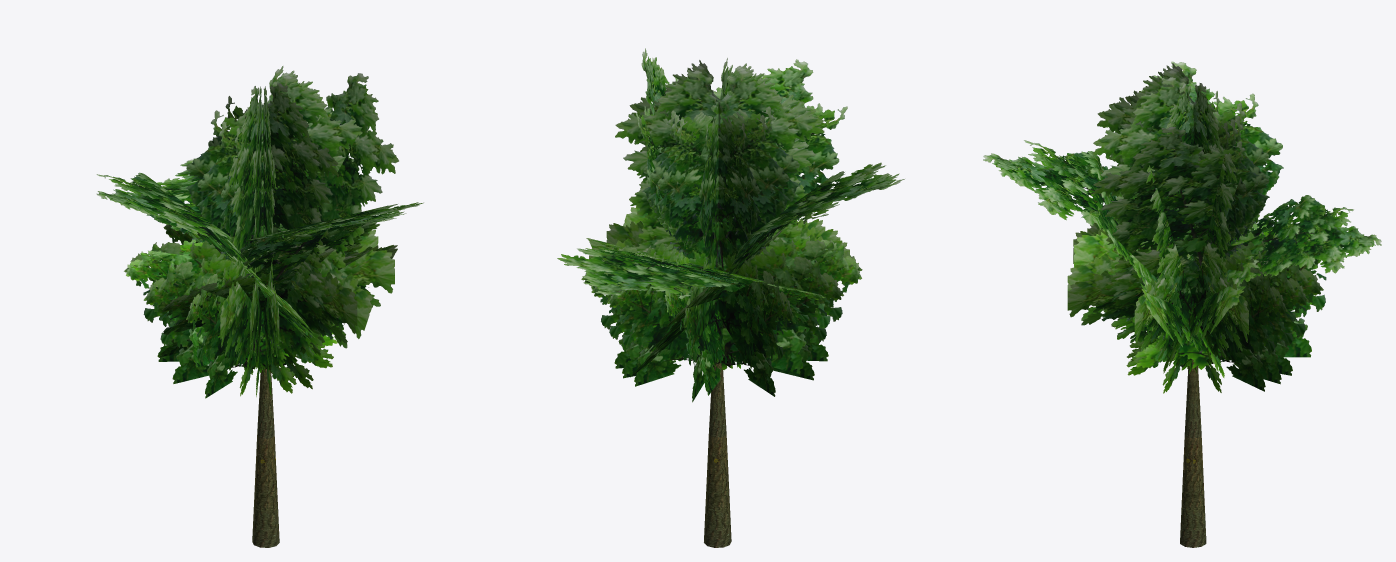
File: tree B.FBX
The picture shows the model from 3 angles, left to right: view 1: azimuth 30°, elevation 25°; view 2: azimuth 150°, elevation 25°; view 3: azimuth 270°, elevation 25°; orthographic projection.
Parts seen in each view (by area): view 1: Cylinder001; view 2: Cylinder001; view 3: Cylinder001.
Boxes of the visible parts, x1,y1,x2,y2 form: Cylinder001: (96,66,423,547); Cylinder001: (557,48,904,547); Cylinder001: (983,61,1381,547).
Size of the model in its own units: 32.02 by 49.85 by 38.59.
